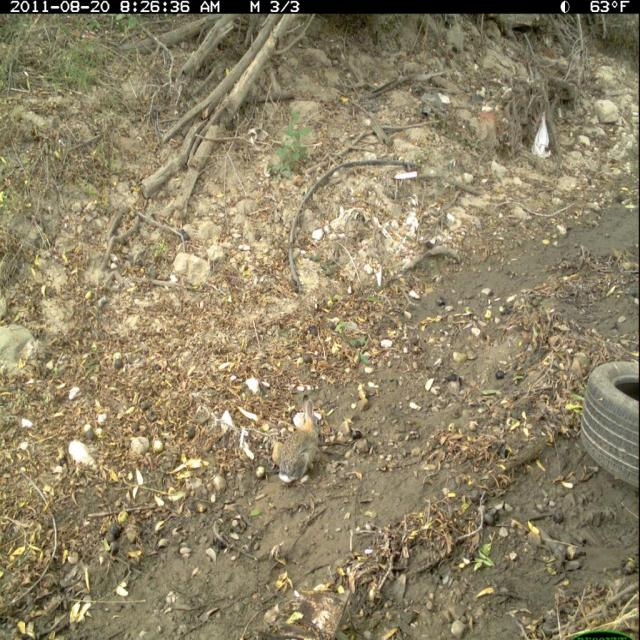rabbit: (273, 402, 331, 496)
